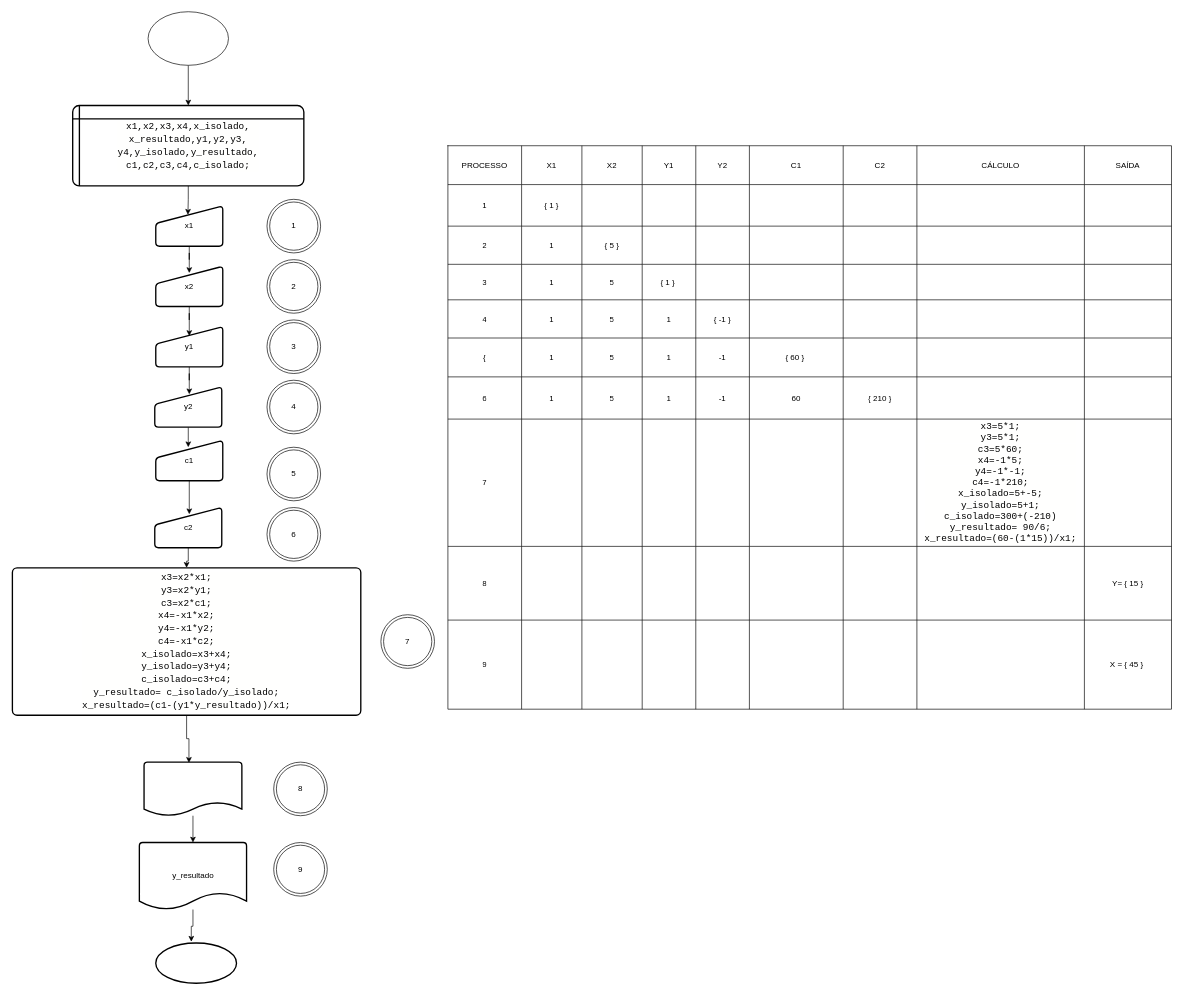
Image size: 1183x996. Some labels were removed from this diagram. The shapes that lost their labels are listed below. From the top down, each one's centre as x and y in pixels, then its label:
At (x=187, y=38): "start".
At (x=192, y=788): "x_resultado".
At (x=196, y=963): "FIM".
